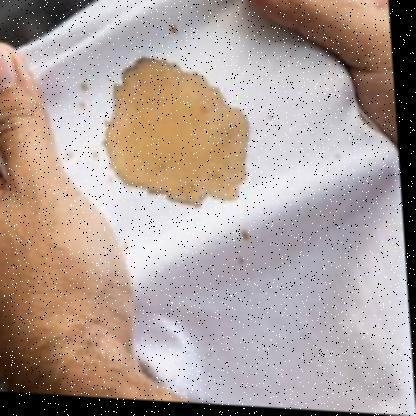coffee: (107, 58, 247, 202)
